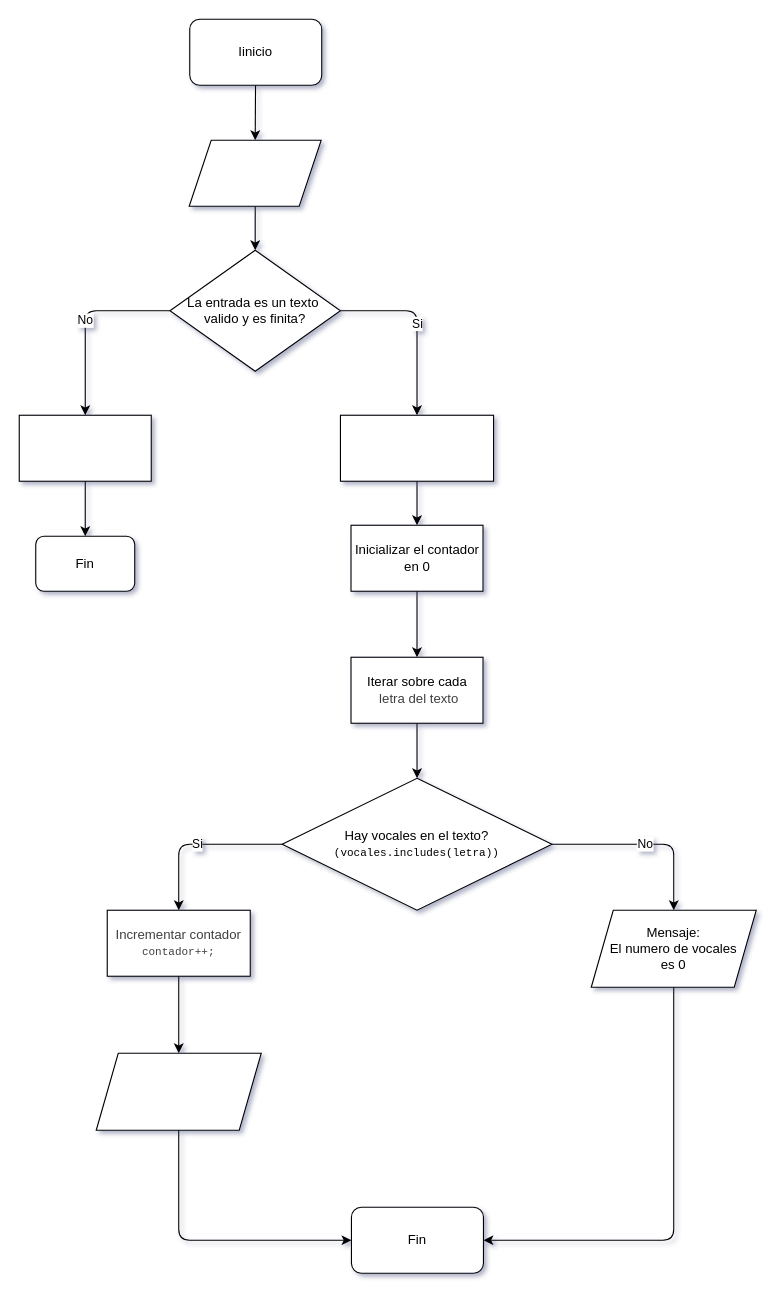
The diagram is 782 pixels wide and 1299 high, and some of its shapes have lost their labels. The shapes that lost their labels are listed below. From the top down, each one's box as (x1, y1, x2, y2) in pixels, then its label:
(188, 139, 321, 206): Ingresa una frase:
(18, 414, 151, 481): Mensaje: Por favor introduce una frase valida, no un numero
(339, 414, 494, 481): Convertir el texto en minusculas
(95, 1052, 261, 1130): Mensaje: Mostrar el numero de vocales
